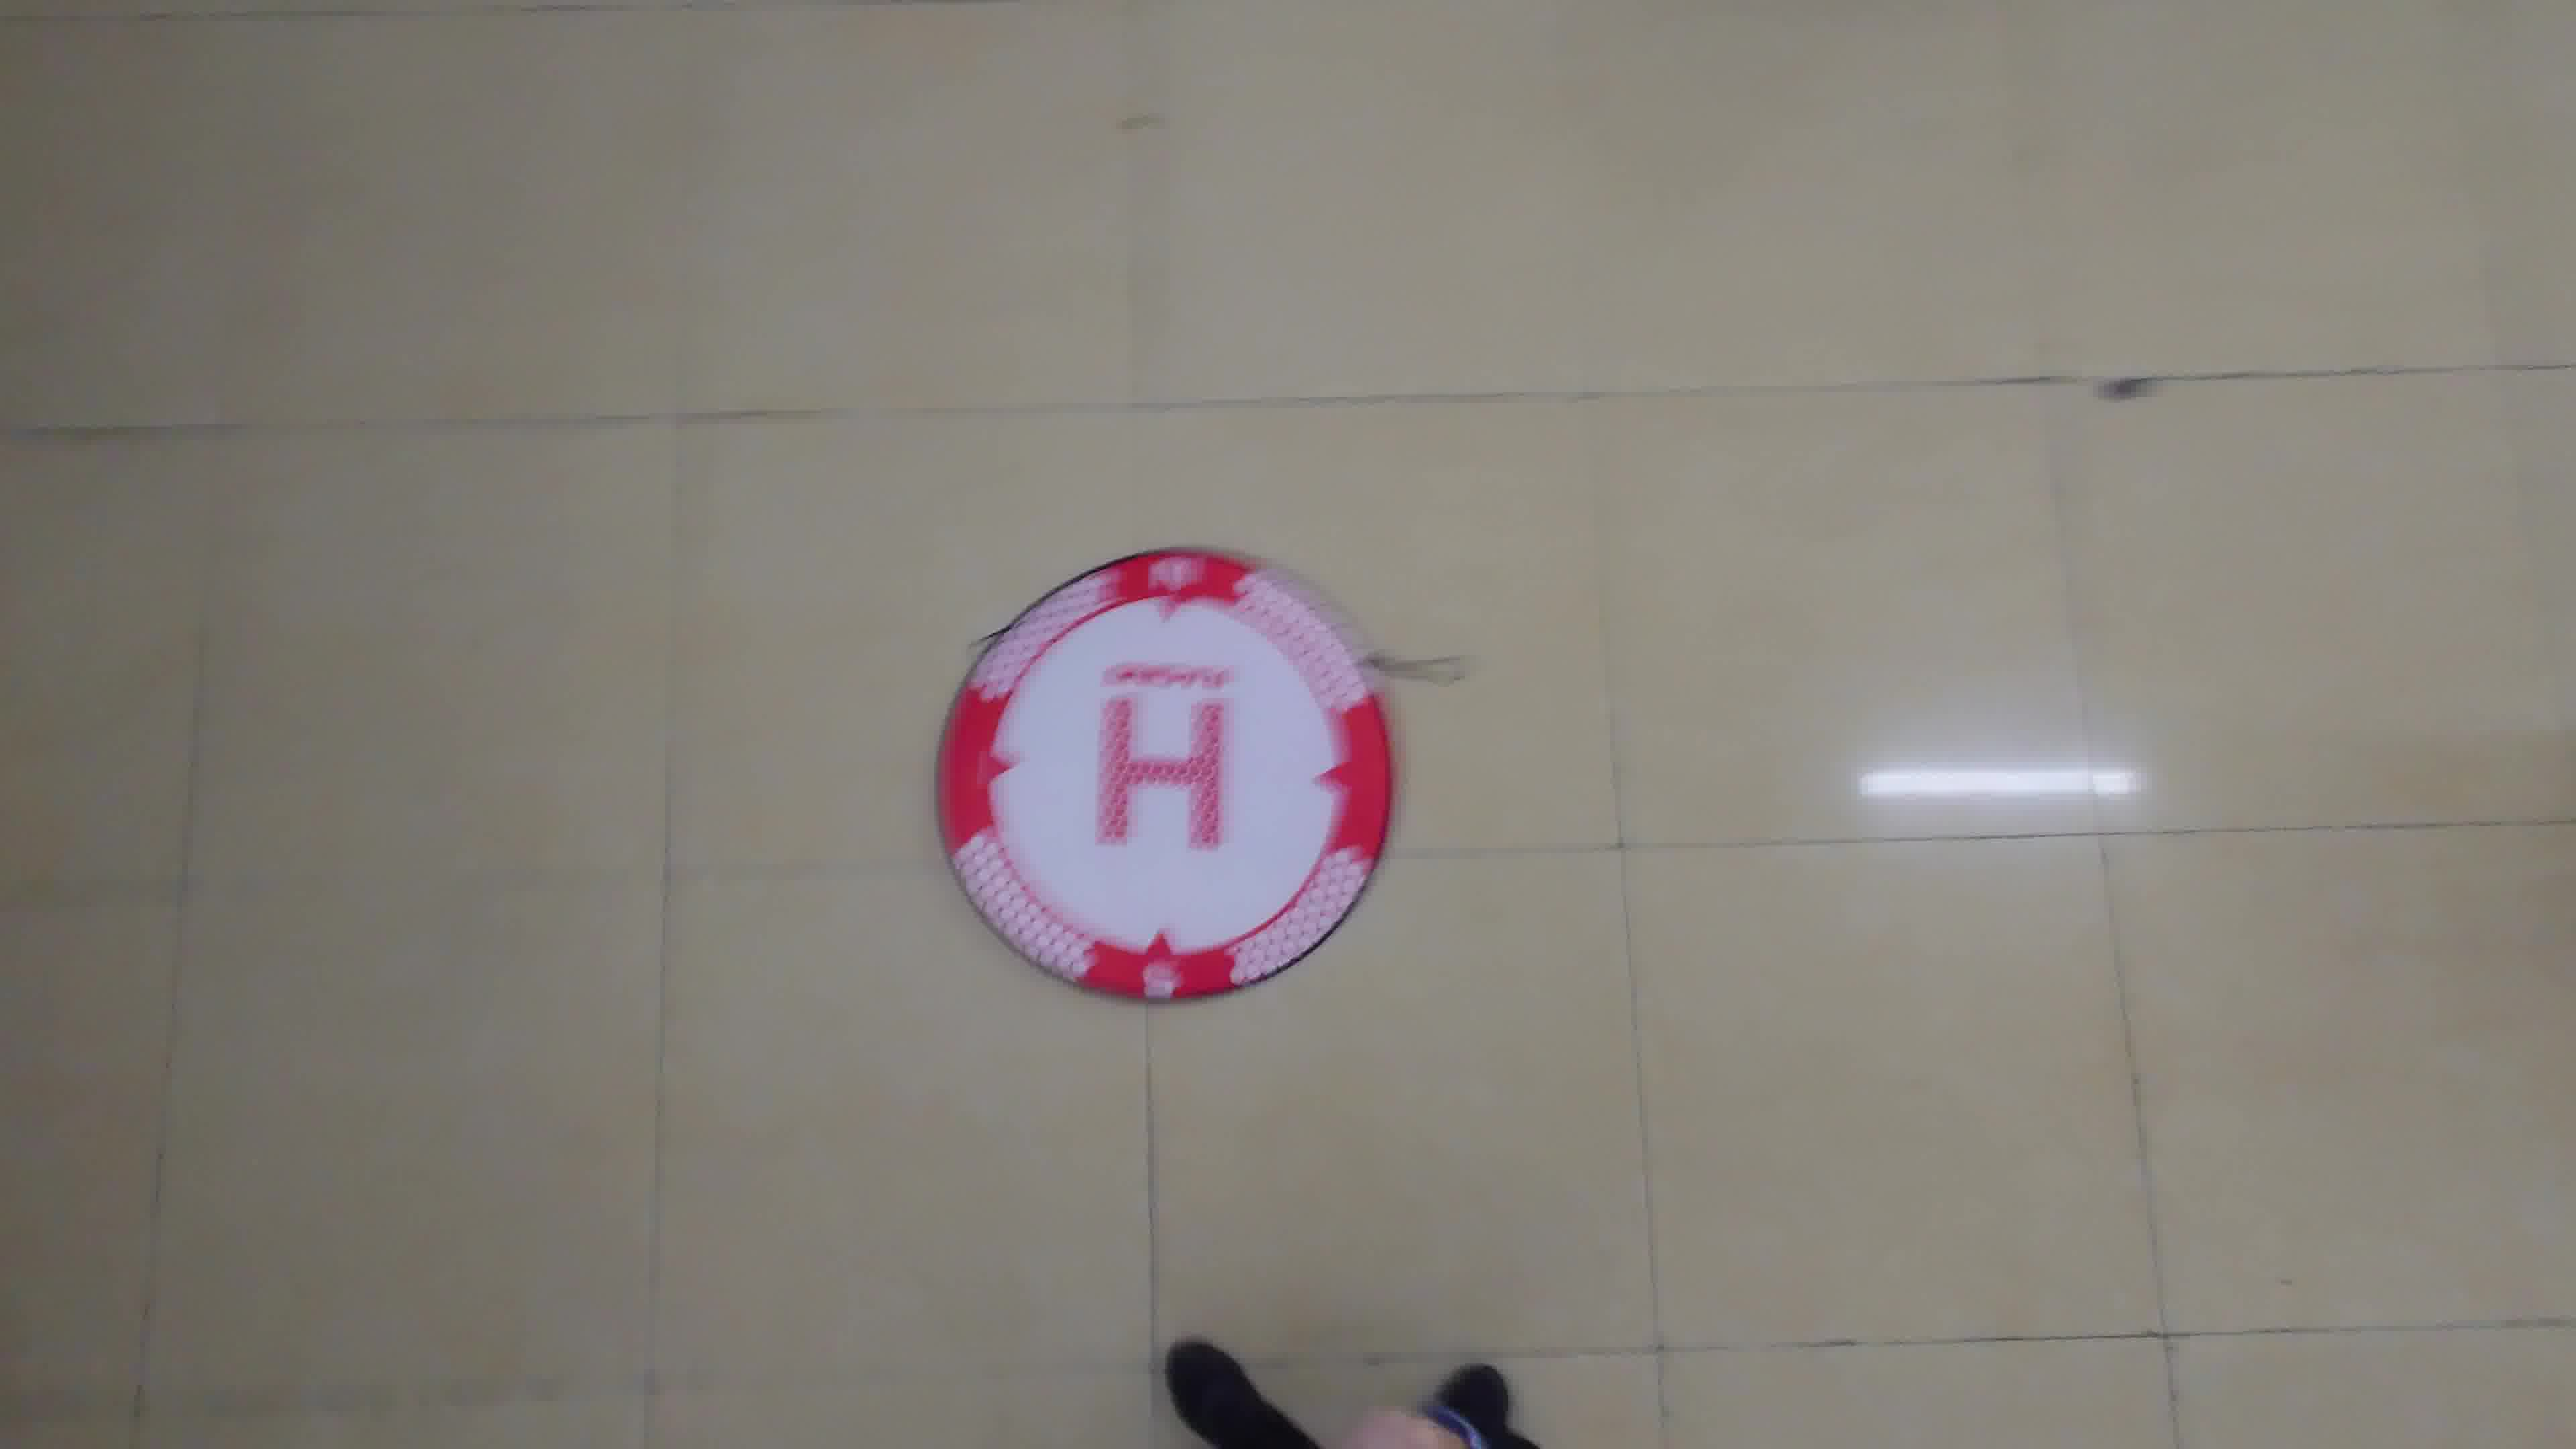H: (1099, 694, 1226, 851)
